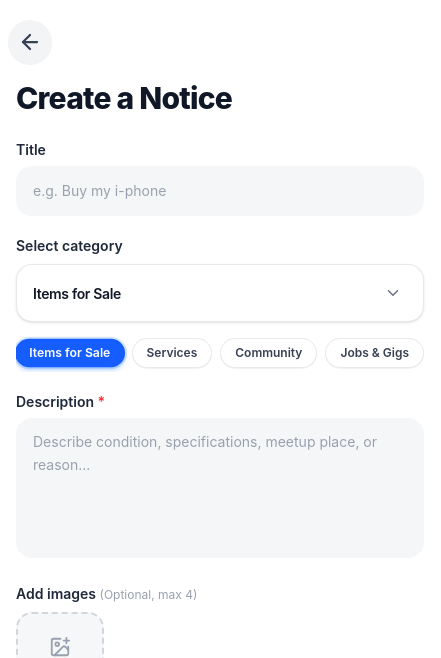
Test: CreateNotice Component Tests › allows publishing without images as images are optional
Type "Valid Title Here" into the field with placeholder "e.g. Buy my i-phone" at (220, 191), box [16,166,424,216]
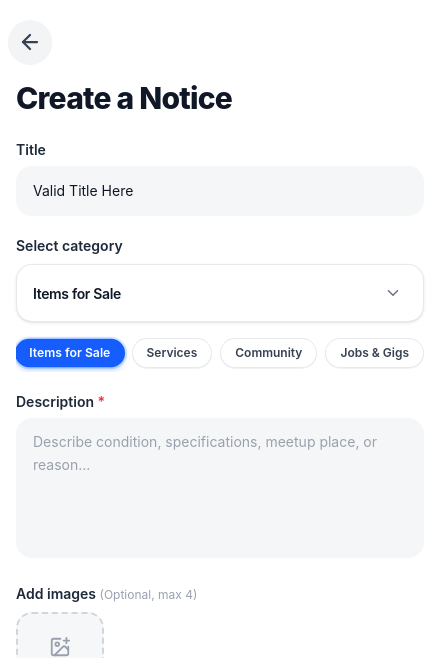
Replace the text in the text box with placeholder "Describe condition, specifications" with "This is a valid detailed description for community notice." at (220, 488), box [16,418,424,558]
(page scrolled)
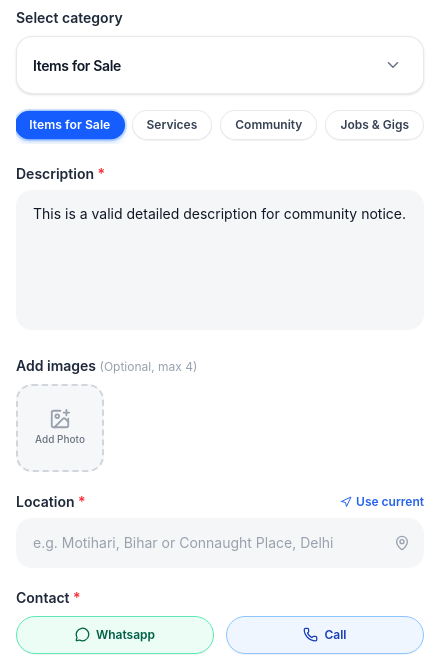
Submit the form
(page scrolled)
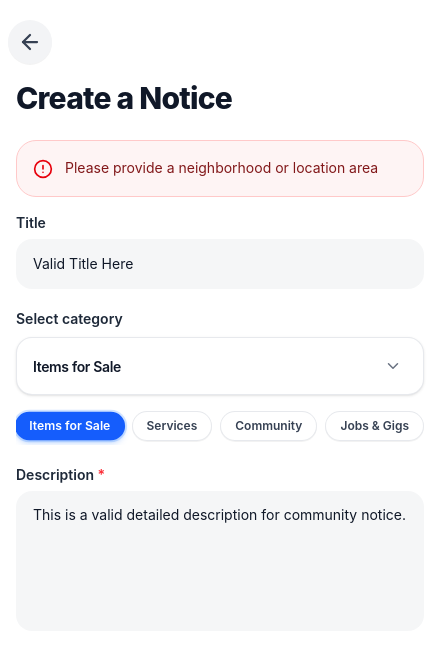
expect the text "Please provide a neighborhood or location area" is shown: met, box [65,157,407,180]
